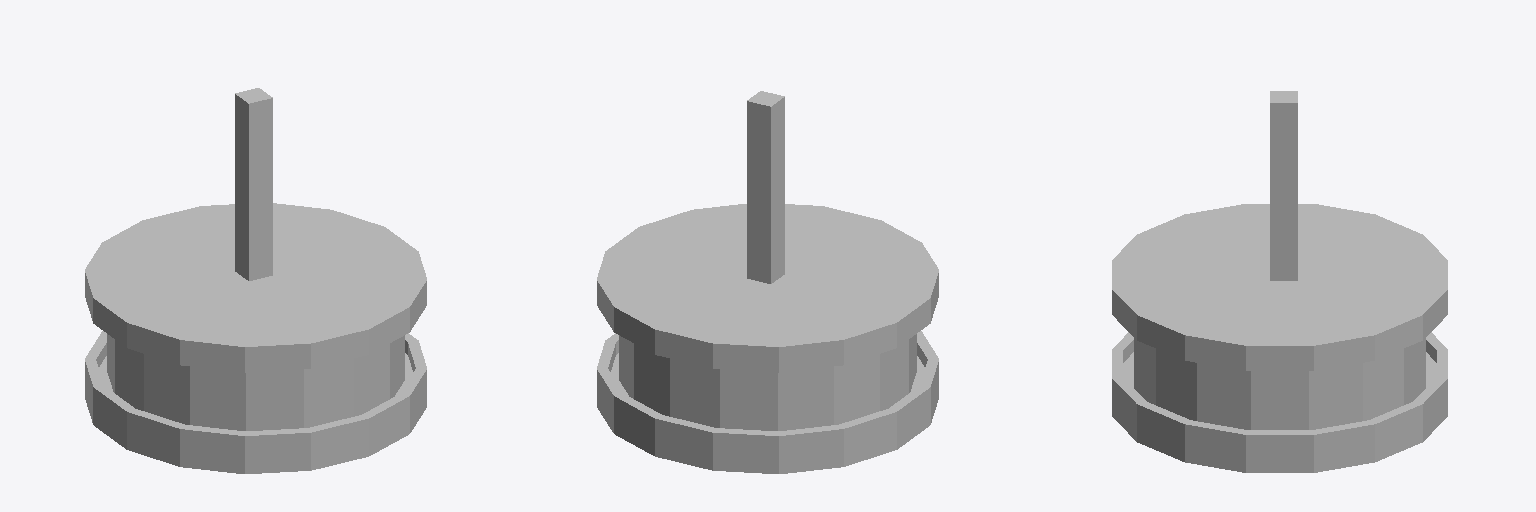
The model's file is gunmount.obj.
3 views of the same model, side by side, from view 1: azimuth 30°, elevation 25°; view 2: azimuth 150°, elevation 25°; view 3: azimuth 270°, elevation 25° (orthographic).
Visible parts, largest first — view 1: shaft.002, base.002; view 2: shaft.002, base.002; view 3: shaft.002, base.002.
Part boxes in pixels (left/top/right/bottom): shaft.002: left=85, top=88, right=426, bottom=430; base.002: left=85, top=331, right=426, bottom=473; shaft.002: left=597, top=91, right=938, bottom=430; base.002: left=597, top=331, right=938, bottom=473; shaft.002: left=1112, top=91, right=1447, bottom=429; base.002: left=1112, top=332, right=1447, bottom=472.
Size of the model in its own units: 0.2833 by 0.2946 by 0.2833.